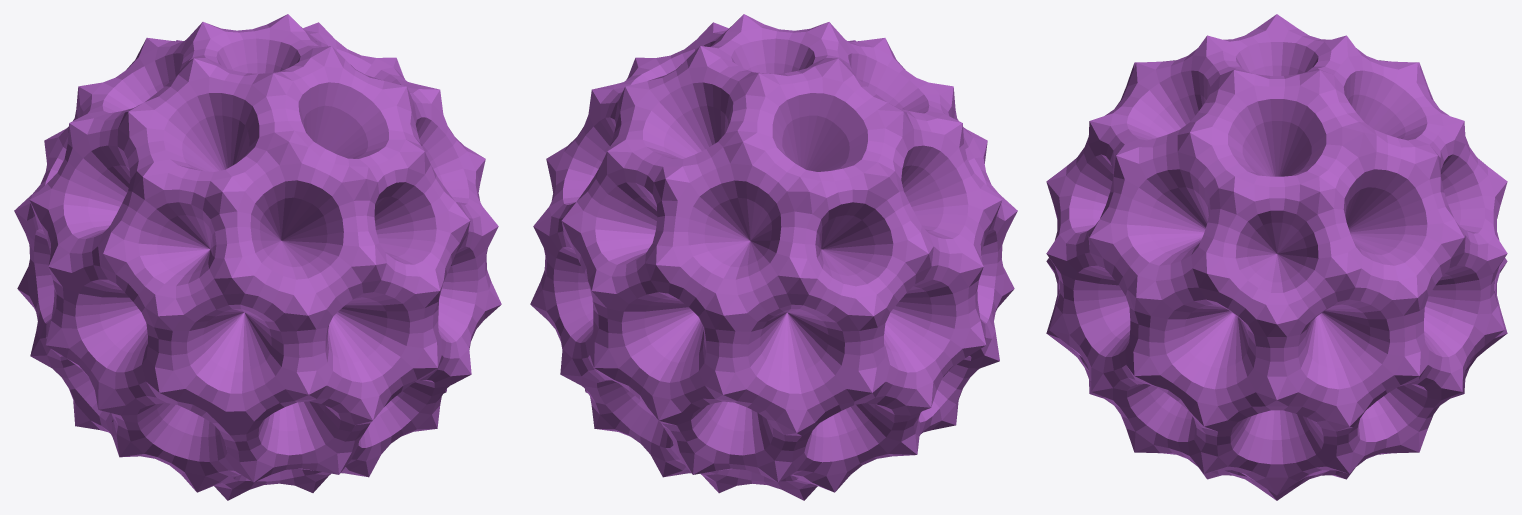
Rendered from deformedBall5.glb.
The picture shows the model from 3 angles, left to right: view 1: azimuth 30°, elevation 25°; view 2: azimuth 150°, elevation 25°; view 3: azimuth 270°, elevation 25°; orthographic projection.
Visible parts, largest first — view 1: Icosphere.007; view 2: Icosphere.007; view 3: Icosphere.007.
Boxes of the visible parts, left/top/right/bottom form: Icosphere.007: left=14, top=14, right=501, bottom=500; Icosphere.007: left=530, top=14, right=1017, bottom=500; Icosphere.007: left=1046, top=14, right=1507, bottom=500.
Size of the model in its own units: 21 by 20.31 by 19.98.
